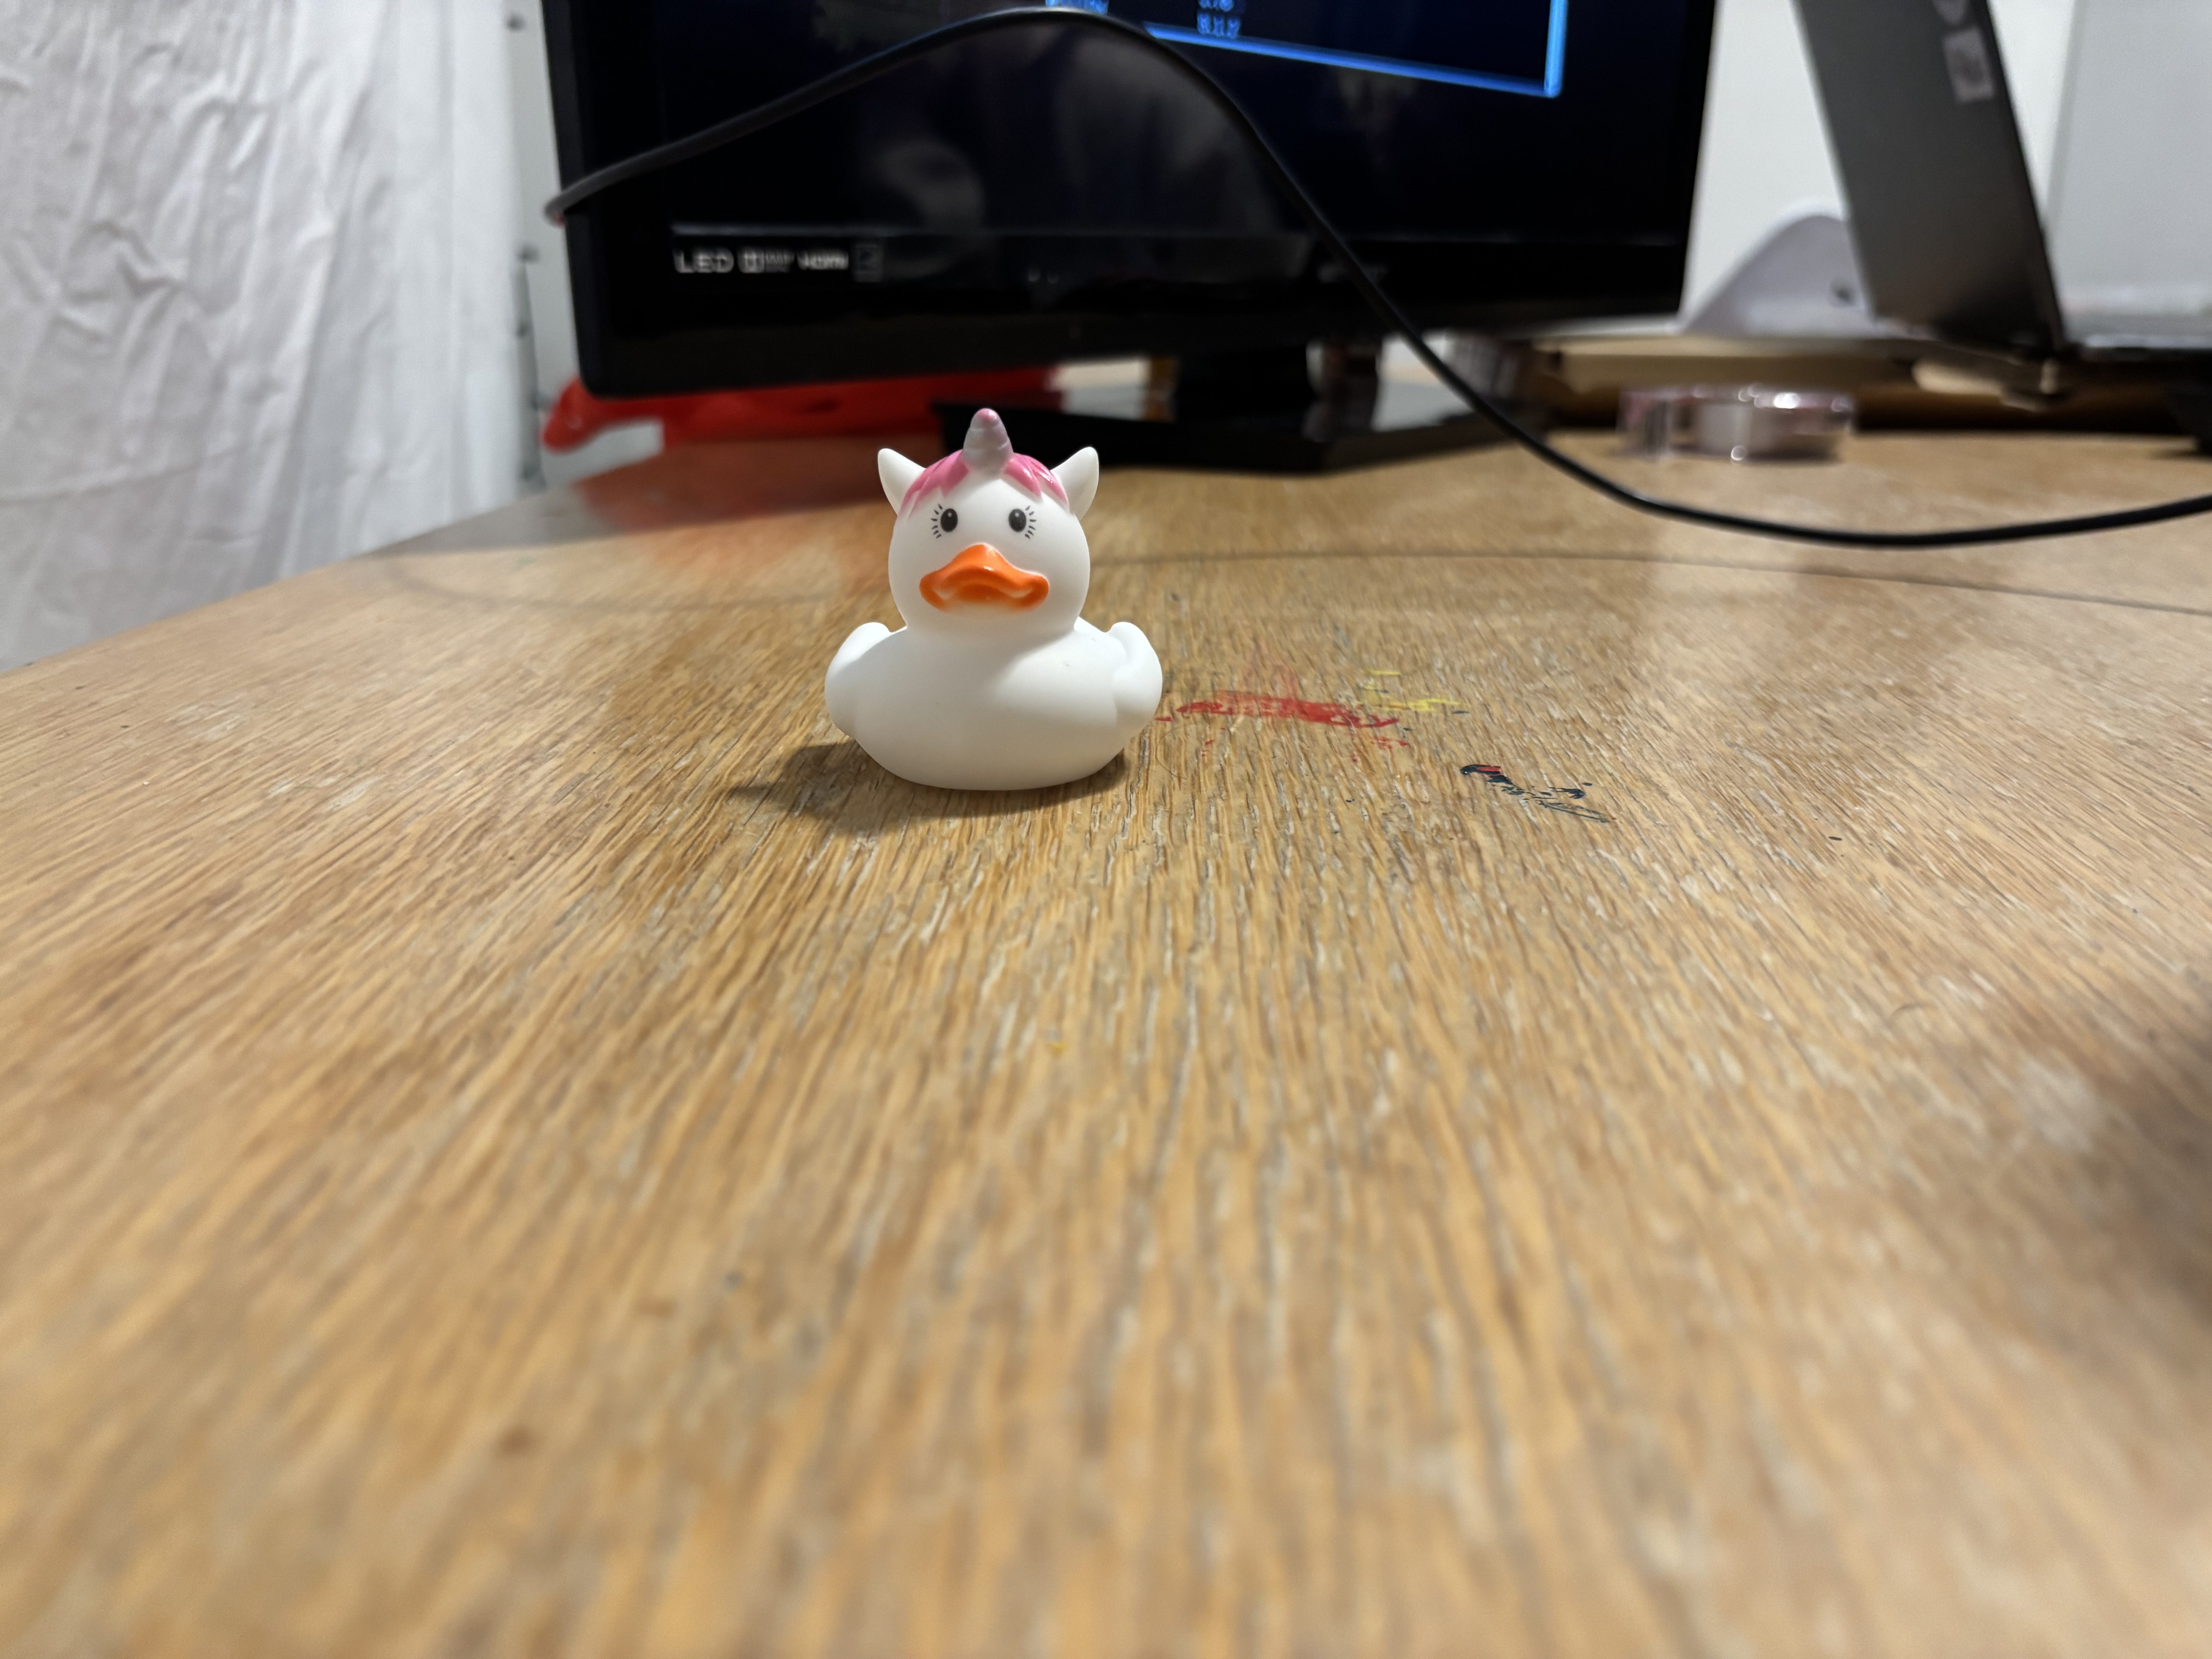Ducks (Specialty): (801, 413, 1163, 782)
